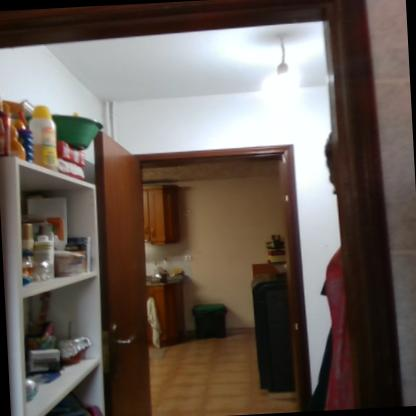open: (78, 120, 321, 416)
